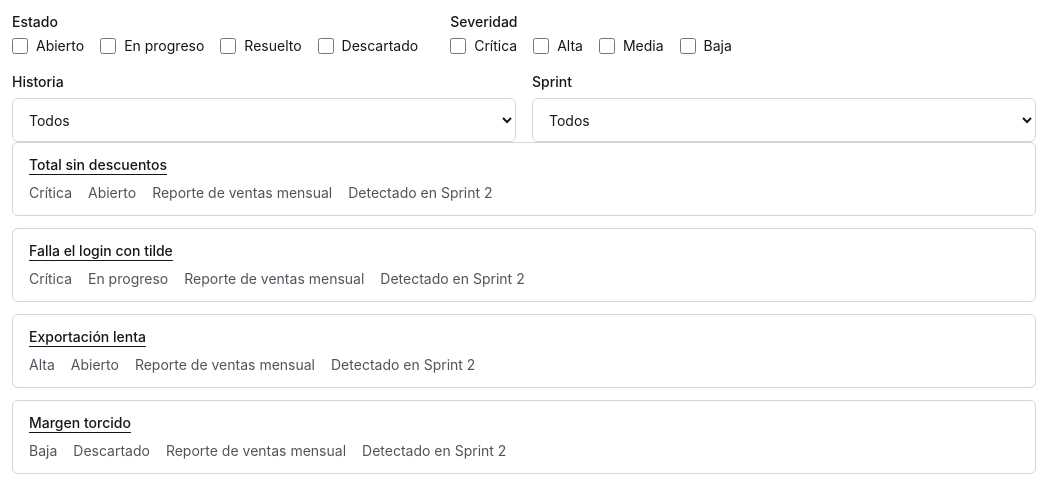
007/US3 - Consultar y filtrar los defectos › severidad y estado combinados envían ambos filtros
This screenshot has width=1048, height=491.
Expected: the number of list items is 4, [12,142,1036,216]; [12,228,1036,302]; [12,314,1036,388]; [12,400,1036,474]
Expected: the list item that starts with "Total sin descuentos" is shown, [29,155,1019,175]
Click the checkbox labelled "Crítica". click: [458, 46]
box: [450,38,466,54]
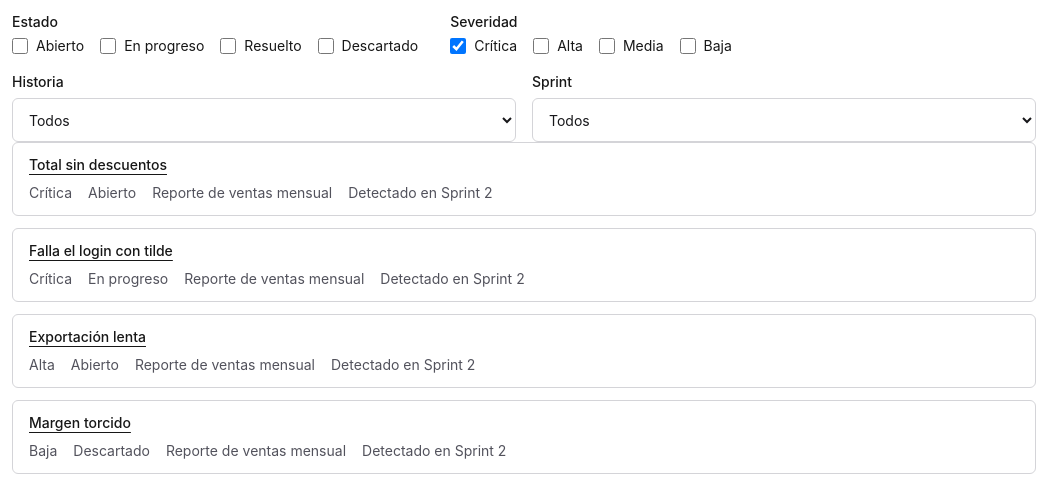
Click the checkbox labelled "En progreso". click: [108, 46]
box: [100,38,116,54]
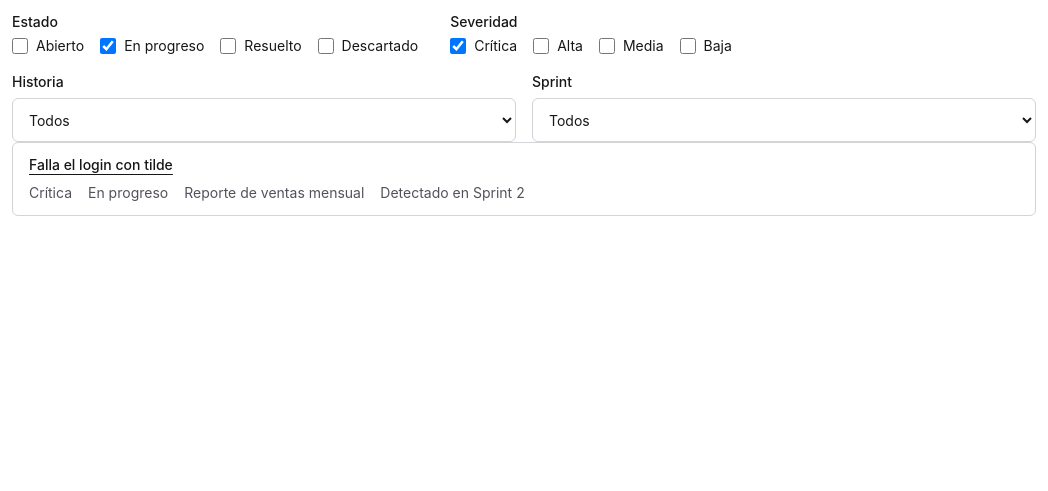
Expected: the list item shows "Falla el login con tilde", [29,155,1019,175]
Result: the number of list items is 1 at [12,142,1036,216]
